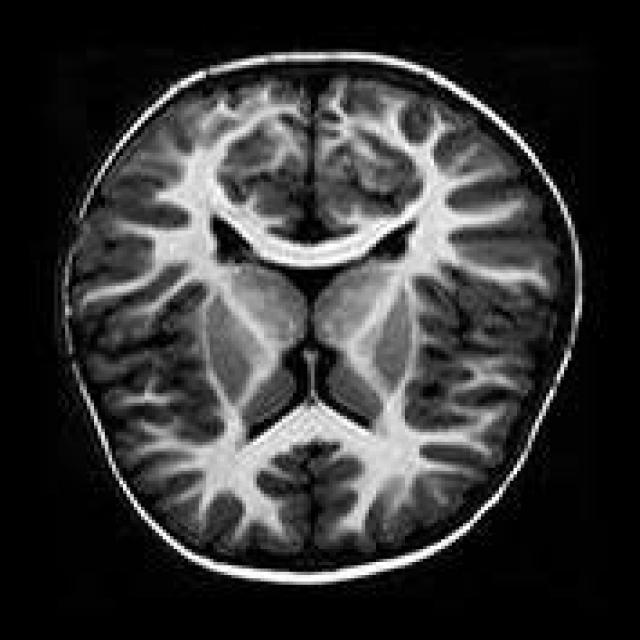notumor: (61, 52, 579, 578)
